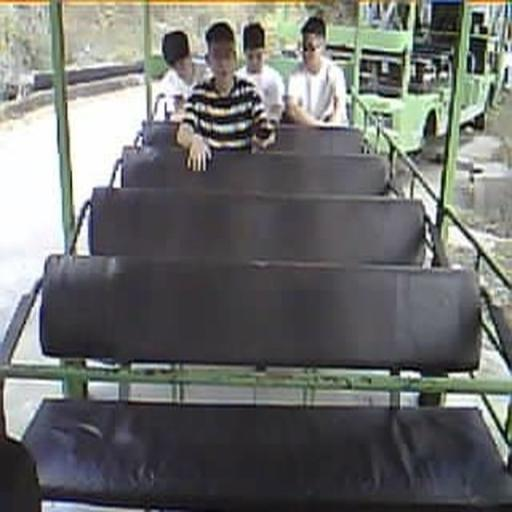persona: (176, 20, 276, 172), (286, 15, 349, 128), (236, 22, 286, 127), (152, 29, 207, 121)
